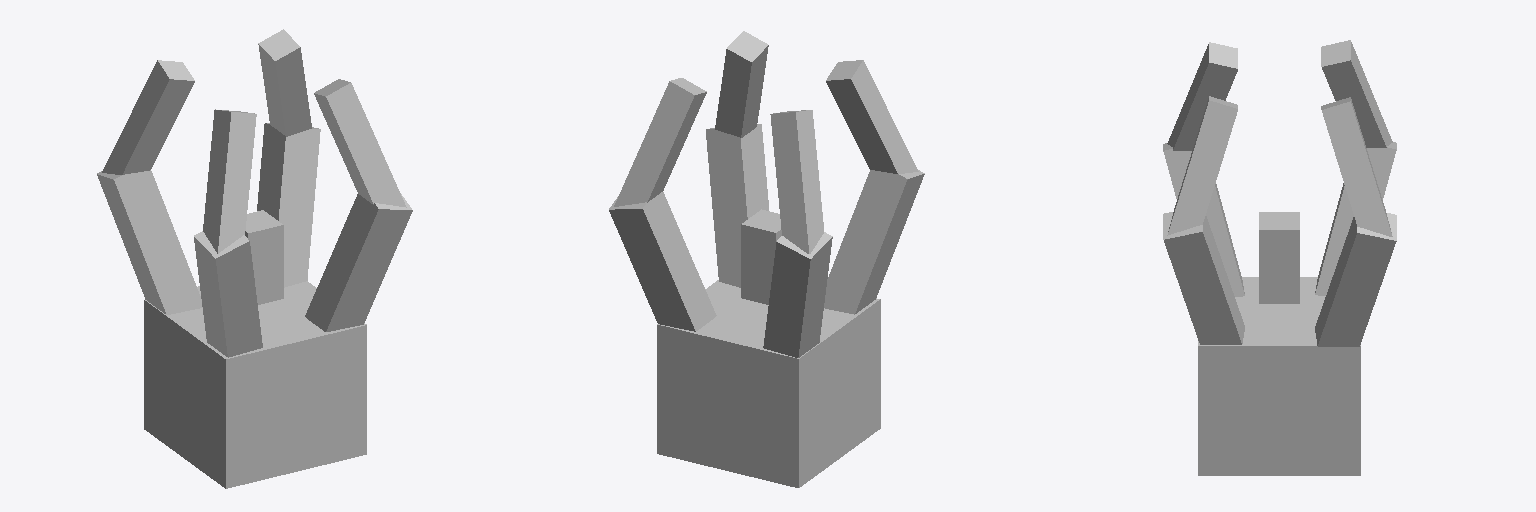
File: gem_forge.obj
3 renders of one model, left to right at view 1: azimuth 30°, elevation 25°; view 2: azimuth 150°, elevation 25°; view 3: azimuth 270°, elevation 25°, orthographic.
Visible parts, largest first — view 1: shape1, shape1.004, shape1.002, shape1.001, shape1.003, shape1.008, shape1.005, shape1.007, shape1.006; view 2: shape1, shape1.001, shape1.003, shape1.004, shape1.002, shape1.005, shape1.008, shape1.006, shape1.007; view 3: shape1, shape1.001, shape1.004, shape1.006, shape1.007, shape1.005, shape1.008, shape1.002, shape1.003.
Part boxes in pixels (x1,y1,x2,y2): shape1: (144,210,366,488); shape1.004: (305,194,412,331); shape1.002: (97,170,202,314); shape1.001: (257,123,320,287); shape1.003: (194,231,262,357); shape1.008: (203,109,256,253); shape1.005: (102,60,194,174); shape1.007: (314,79,406,207); shape1.006: (258,29,311,136); shape1: (657,209,880,487); shape1.001: (609,192,716,331); shape1.003: (824,170,924,314); shape1.004: (706,124,768,287); shape1.002: (763,232,832,357); shape1.005: (770,110,823,253); shape1.008: (826,60,918,173); shape1.006: (614,78,706,206); shape1.007: (715,31,768,137); shape1: (1198,212,1360,475); shape1.001: (1315,213,1396,346); shape1.004: (1163,212,1244,344); shape1.006: (1321,97,1392,236); shape1.007: (1167,96,1237,235); shape1.005: (1321,40,1392,147); shape1.008: (1167,42,1237,150); shape1.002: (1315,142,1396,295); shape1.003: (1163,143,1244,296).
Size of the model in its own units: 1.46 by 2.51 by 1.43.